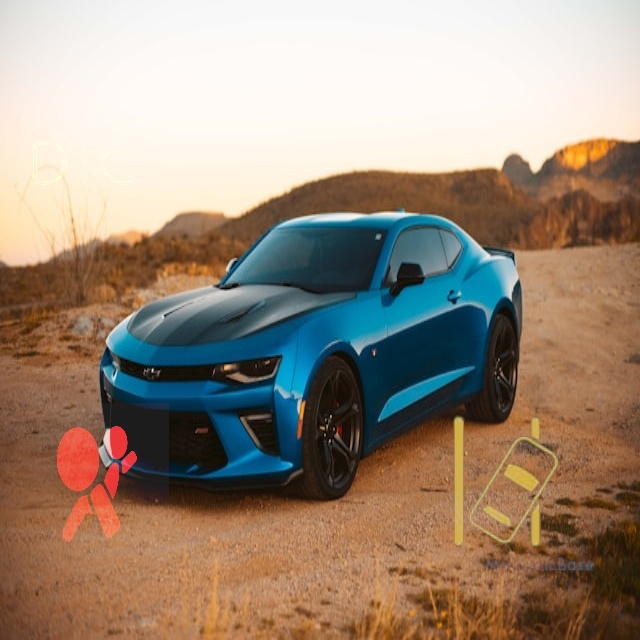symbol: (411, 391, 600, 580), (2, 84, 163, 245), (14, 403, 169, 558)
